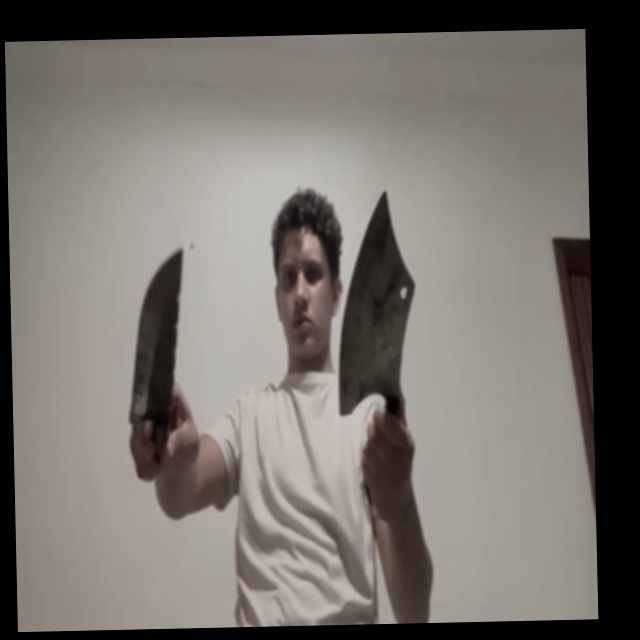Sharp-Object: (333, 185, 419, 419), (123, 245, 187, 424)
